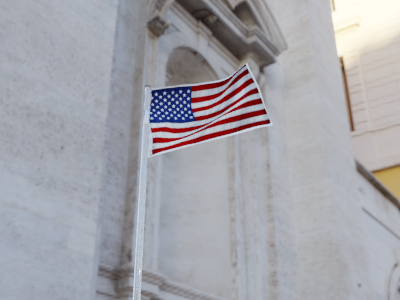America flag: (149, 62, 274, 156)
